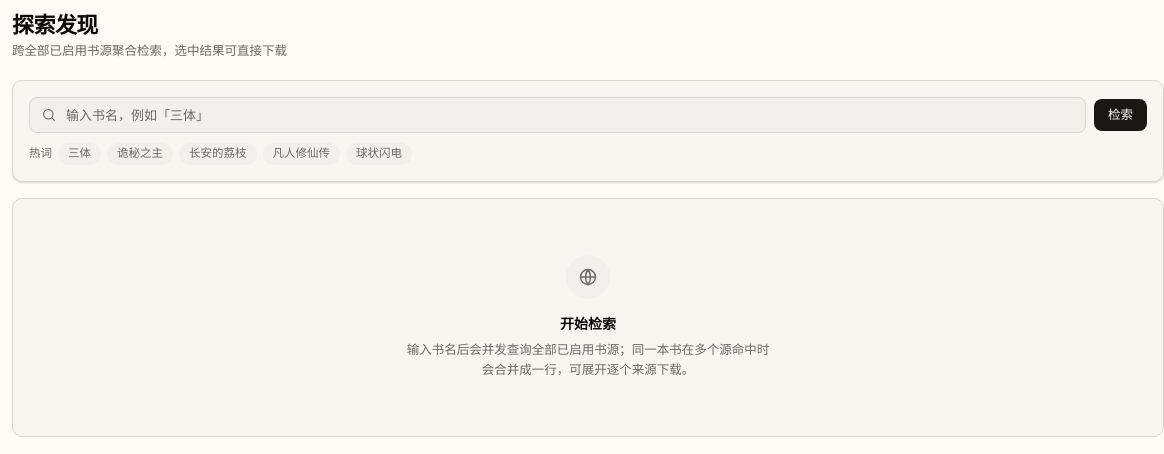
ExploreView · 逐源状态如实显示 › 一个源都没有时说「没有可用的书源」，而不是「没有找到结果」
Type "三体" into the field named "搜索书名" at (558, 115), box x1=29 y1=97 x2=1086 y2=133
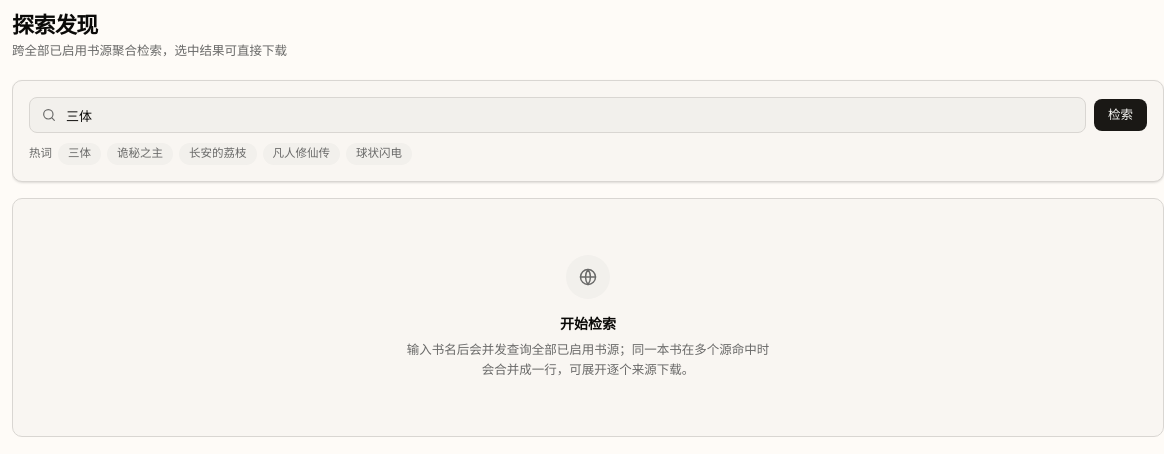
Click the button "检索" at (1120, 115), box x1=1094 y1=99 x2=1147 y2=131
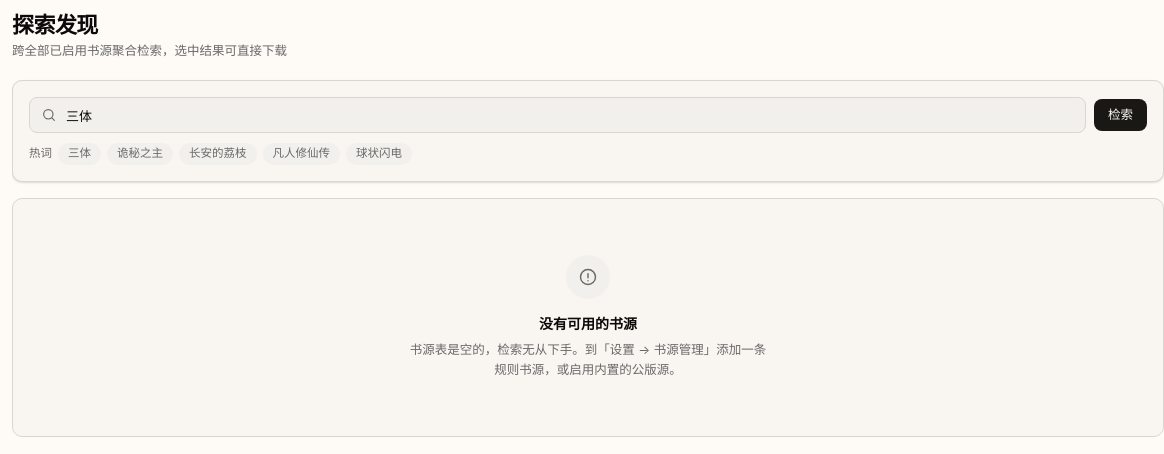
Expected: the text "没有可用的书源" is shown, x1=539 y1=312 x2=637 y2=334
